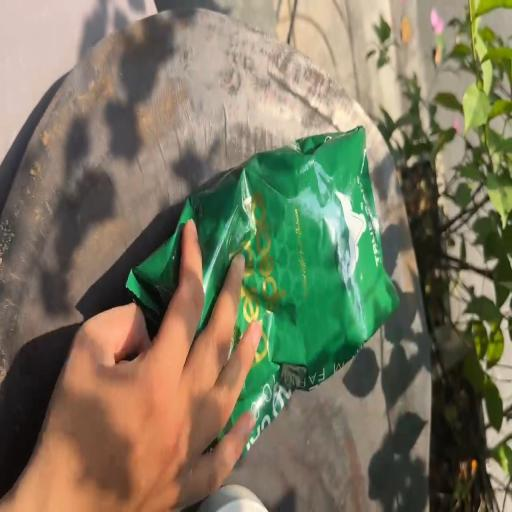cafe_xay: (126, 127, 398, 449)
